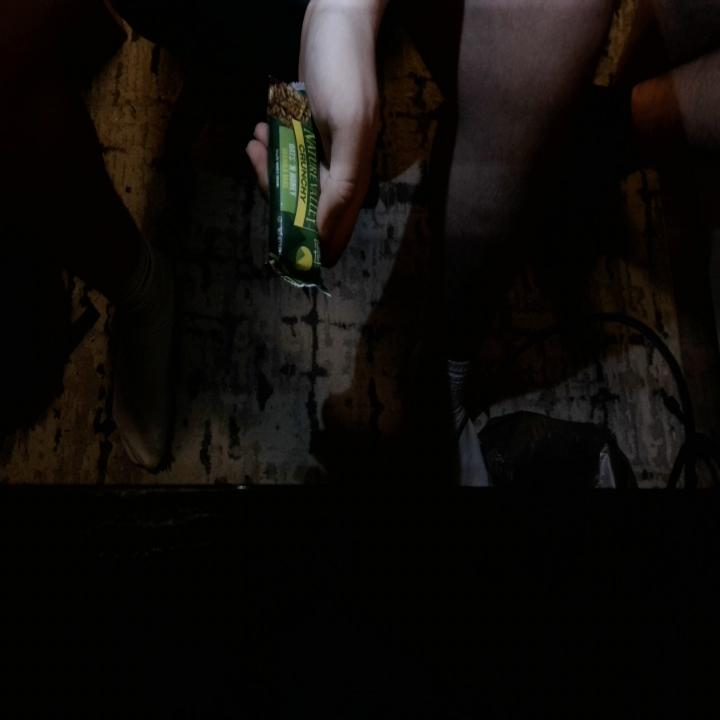Granola Bar: (263, 71, 335, 292)
